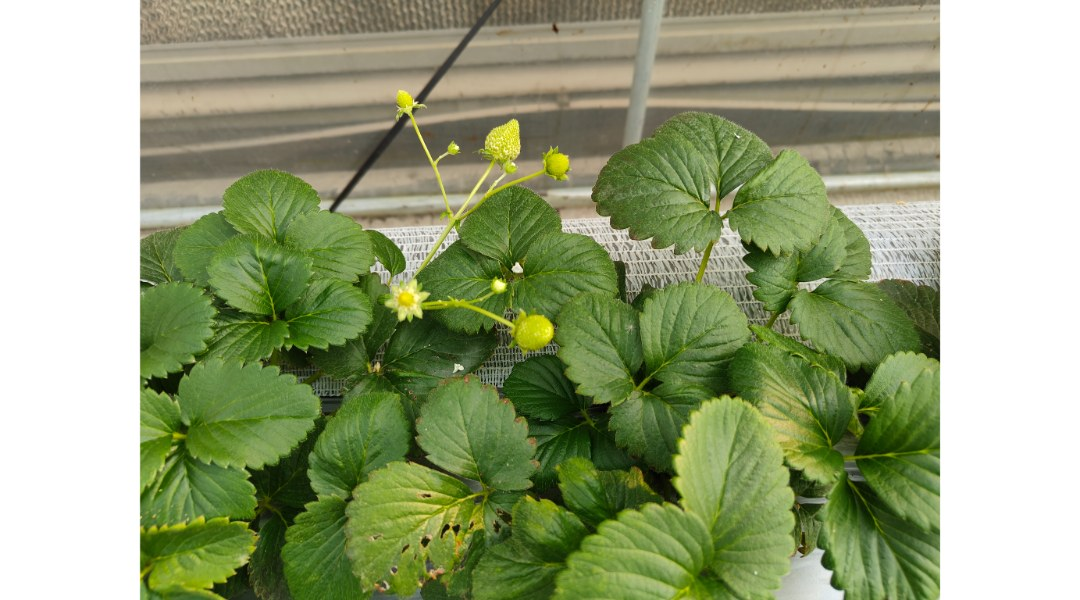berry: (366, 265, 433, 336), (478, 106, 530, 177), (505, 303, 562, 353), (382, 85, 426, 126), (542, 153, 575, 200), (440, 139, 465, 167)
strain: (421, 227, 452, 284), (461, 164, 492, 206), (501, 167, 545, 195), (432, 167, 455, 212), (410, 115, 432, 155), (473, 311, 519, 327)
